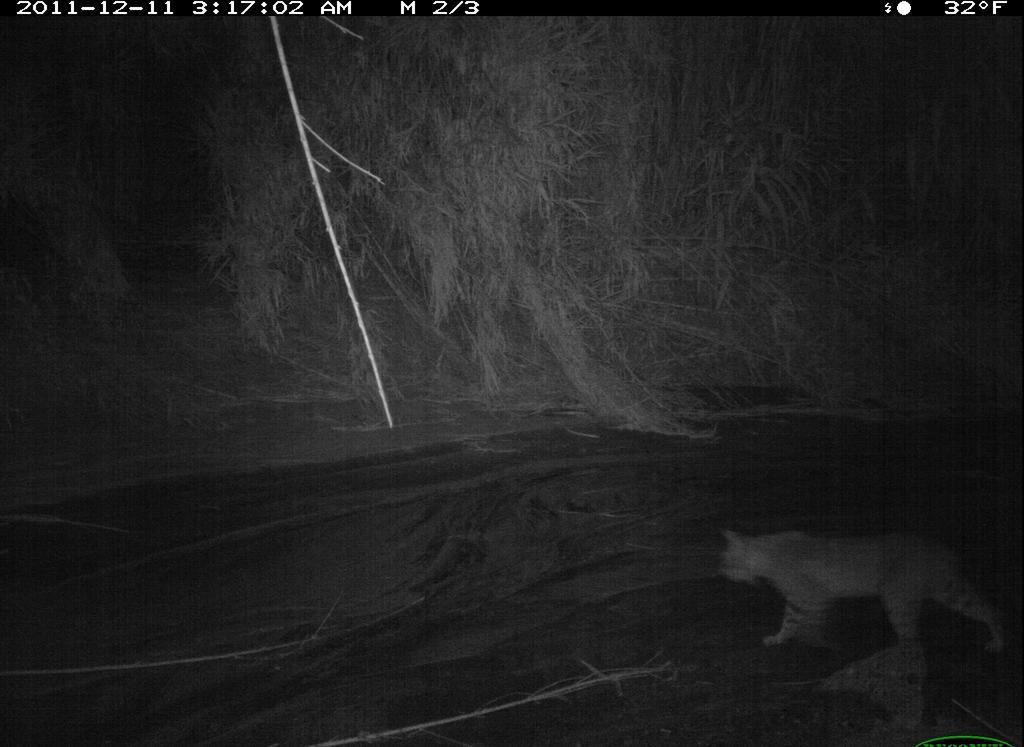bobcat: (712, 501, 1019, 684)
